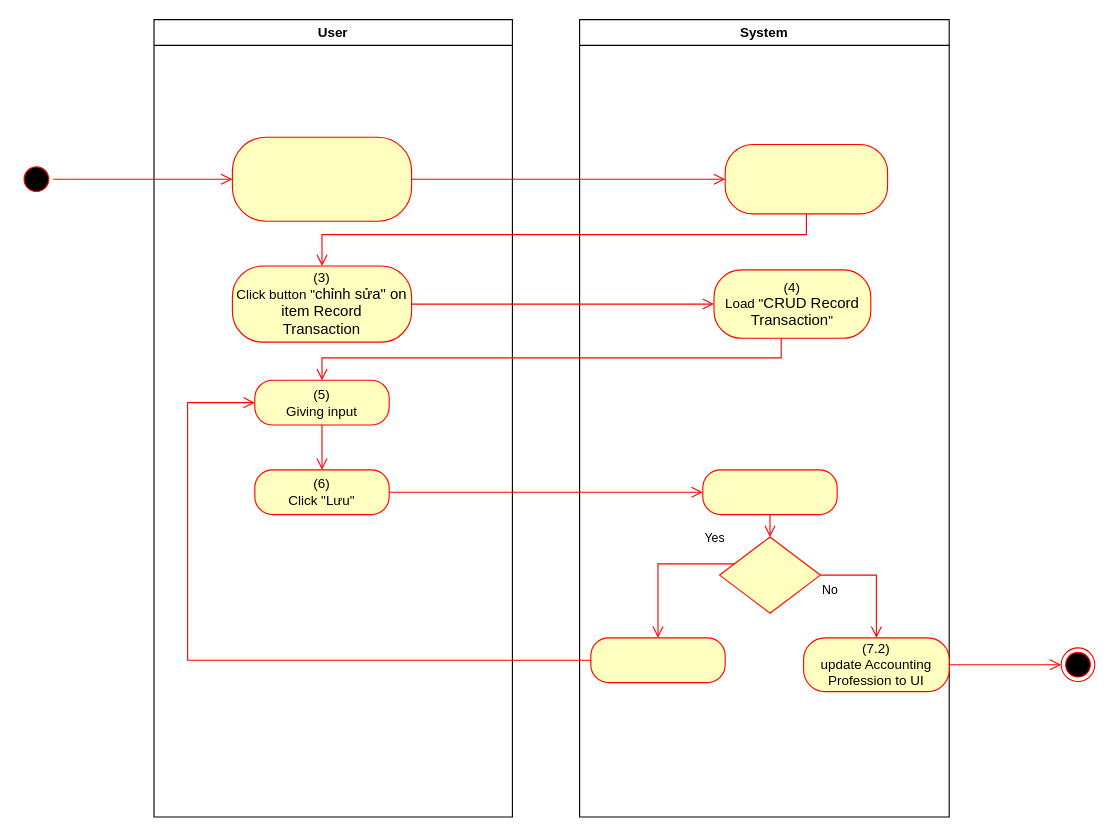
Image size: 1114x837. Some labels were removed from this diagram. The shapes that lost their labels are listed below. From the top down, each one's centre as x and y in pixels, then its label:
point (321, 178): (1) Click item Accounting Profession
point (806, 178): (2) Load " CRUD Record Transaction "
point (769, 492): (7) Validate
point (657, 660): (7.1) Show MSG
